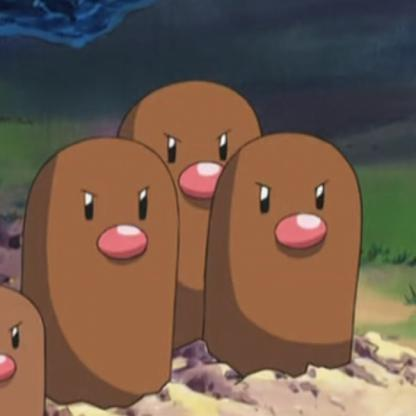Dugtrio: (1, 65, 368, 416)
